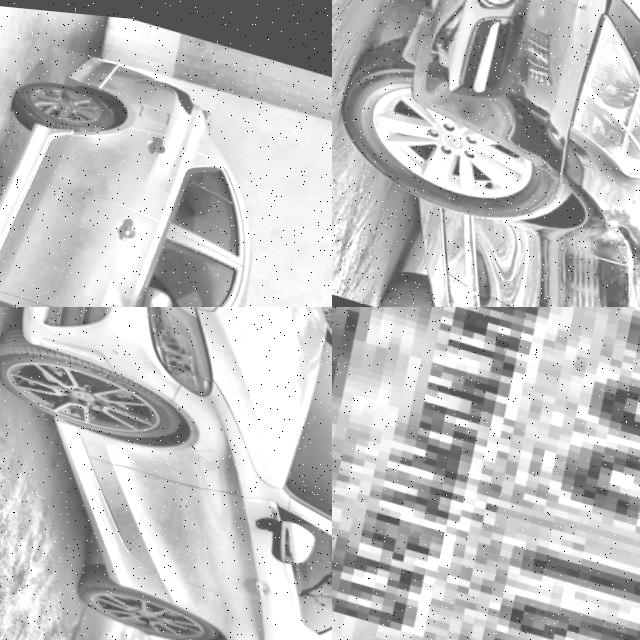license-plate: (332, 307, 640, 640)
